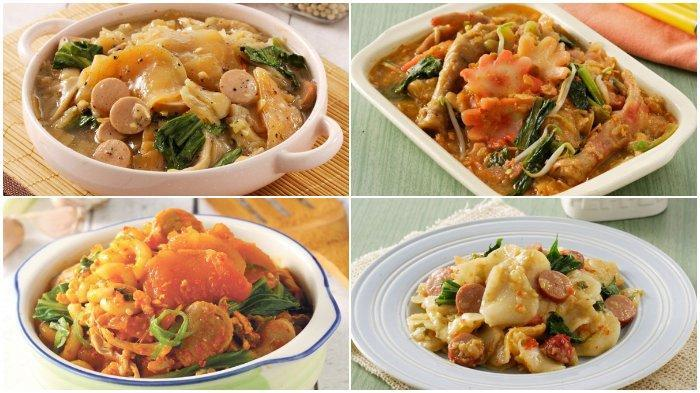seblak: (368, 6, 680, 196), (35, 209, 312, 379), (31, 10, 318, 173), (406, 243, 638, 373)
